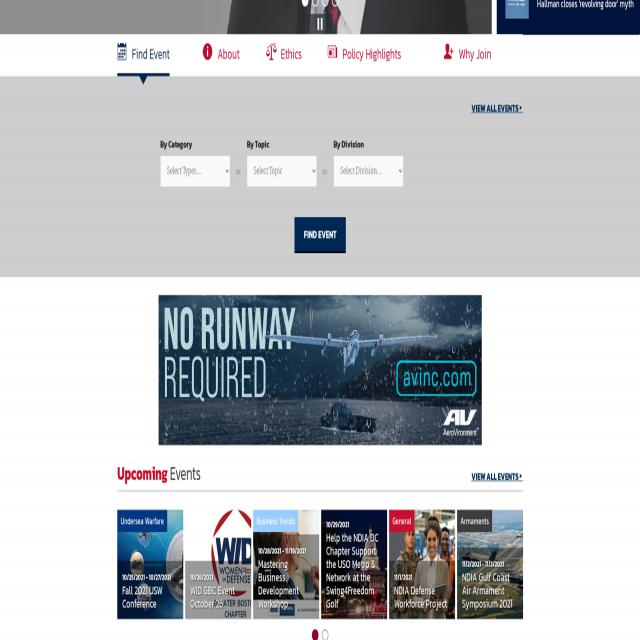button: (159, 294, 482, 444), (185, 509, 252, 618), (390, 508, 455, 620), (252, 511, 320, 618), (321, 509, 387, 619), (117, 510, 184, 618), (458, 510, 523, 619), (328, 34, 444, 77), (117, 34, 203, 77), (444, 34, 523, 77), (203, 34, 266, 77), (266, 34, 328, 77), (294, 218, 346, 254), (308, 14, 332, 34), (505, 0, 529, 19), (320, 627, 330, 640), (311, 626, 319, 640), (301, 0, 308, 6), (311, 0, 318, 6), (321, 0, 328, 6), (331, 0, 338, 6)
field: (160, 156, 230, 187), (247, 156, 317, 187), (333, 156, 403, 187)
